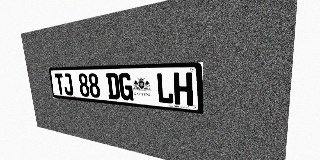8: (88, 73, 101, 98), (78, 73, 90, 97)
D: (106, 73, 120, 100)
G: (118, 73, 133, 101)
H: (173, 72, 193, 106)
J: (62, 73, 74, 96)
L: (156, 72, 174, 104)
T: (54, 73, 65, 95)
